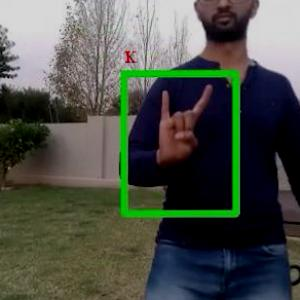takeoff-hand: (148, 74, 223, 176)
